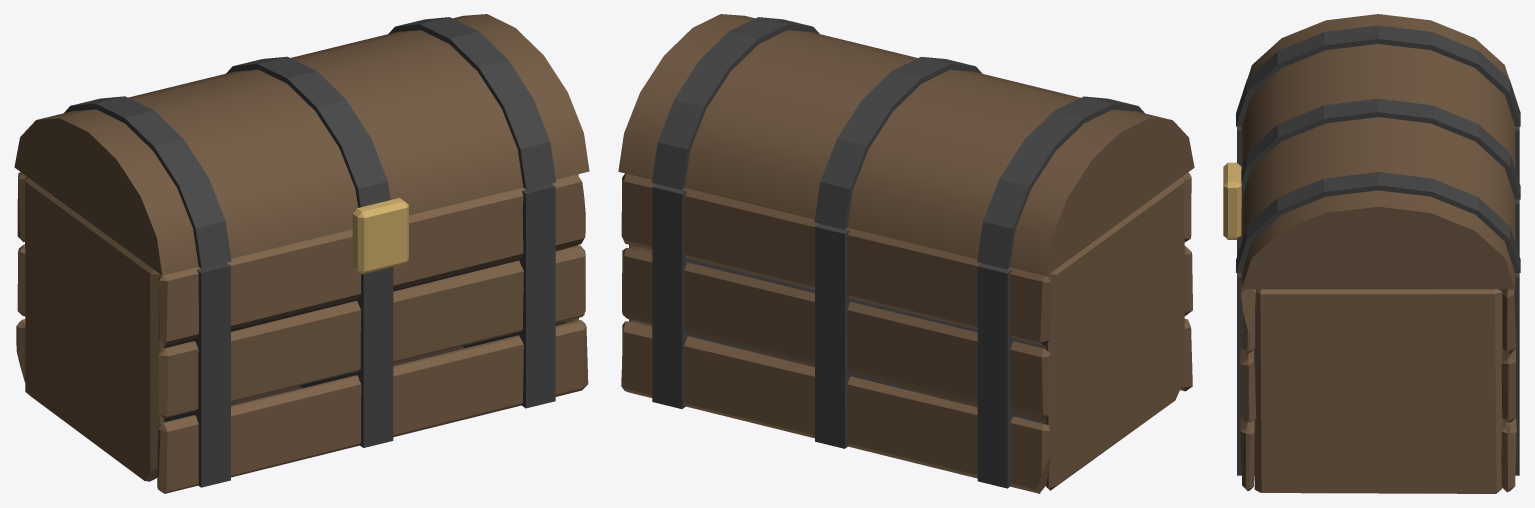
File: chest.glb
The picture shows the model from 3 angles, left to right: view 1: azimuth 30°, elevation 25°; view 2: azimuth 150°, elevation 25°; view 3: azimuth 270°, elevation 25°; orthographic projection. The views are drawn at different scales.
Visible parts, largest first — view 1: chest; view 2: chest; view 3: chest.
Boxes of the visible parts, x1,y1,x2,y2 form: chest: [14, 14, 589, 493]; chest: [618, 14, 1194, 493]; chest: [1223, 14, 1520, 493].
Size of what is drawn, in the model's own units: 1.01 by 0.7142 by 0.652.
